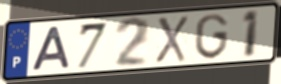1: (241, 8, 259, 59)
2: (114, 16, 152, 70)
7: (75, 22, 111, 70)
A: (29, 25, 72, 73)
G: (193, 12, 230, 61)
X: (153, 14, 189, 65)
